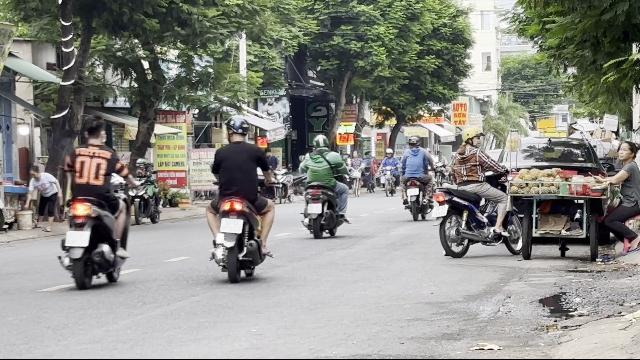helmet: (224, 114, 250, 142), (461, 125, 484, 147), (312, 134, 330, 150)
licenseplate: (65, 231, 89, 246), (220, 218, 242, 232), (432, 205, 448, 215), (308, 204, 322, 214)
motorcyclist: (59, 118, 131, 288), (204, 115, 276, 282), (434, 124, 514, 260), (297, 134, 349, 239)
nohelmet: (82, 120, 108, 146)
